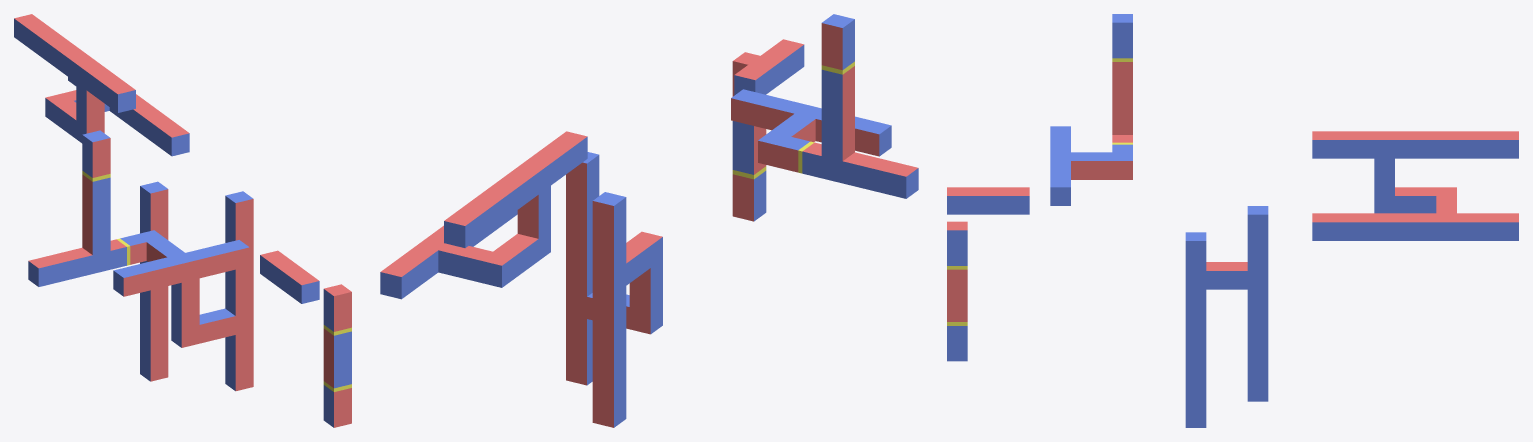
Rendered from rotations.dae.
3 views of the same model, side by side, from view 1: azimuth 30°, elevation 25°; view 2: azimuth 150°, elevation 25°; view 3: azimuth 270°, elevation 25° (orthographic). The views are drawn at different scales.
Parts seen in each view (by area): view 1: zxo (×25), zxz (×17), zox (×3), zxx (×3), ozx (×2), xzo (×2), oxz (×2), xzz (×2), xzx (×2), ozxh (×2), zxoh (×2); view 2: zxo (×25), zxz (×12), zox (×4), ozx (×2), xzo (×2), xzz (×2), xzx (×2), oxz, zxx; view 3: zxo (×14), zxz (×4), zox (×3), ozx.
Part boxes in pixels (x1,y1,x2,y2): zxo (×25): (24, 21, 308, 372); zxz (×17): (82, 87, 319, 390); zox (×3): (76, 83, 184, 257); zxx (×3): (177, 260, 351, 427); ozx (×2): (82, 210, 110, 254); xzo (×2): (46, 247, 92, 282); oxz (×2): (199, 308, 235, 343); xzz (×2): (28, 261, 351, 371); xzx (×2): (92, 194, 110, 273); ozxh (×2): (92, 157, 110, 198); zxoh (×2): (110, 242, 146, 269); zxo (×25): (393, 48, 806, 405); zxz (×12): (380, 14, 891, 427); zox (×4): (517, 113, 815, 285); ozx (×2): (821, 108, 854, 161); xzo (×2): (842, 152, 896, 193); xzz (×2): (732, 128, 918, 198); xzx (×2): (821, 89, 842, 183); oxz: (438, 250, 480, 282); zxx: (592, 267, 613, 294); zxo (×14): (967, 140, 1498, 409); zxz (×4): (1050, 14, 1268, 259); zox (×3): (1071, 158, 1394, 289); ozx: (1112, 97, 1132, 134).
Size of the model in its own units: 14 by 27.7 by 17.
